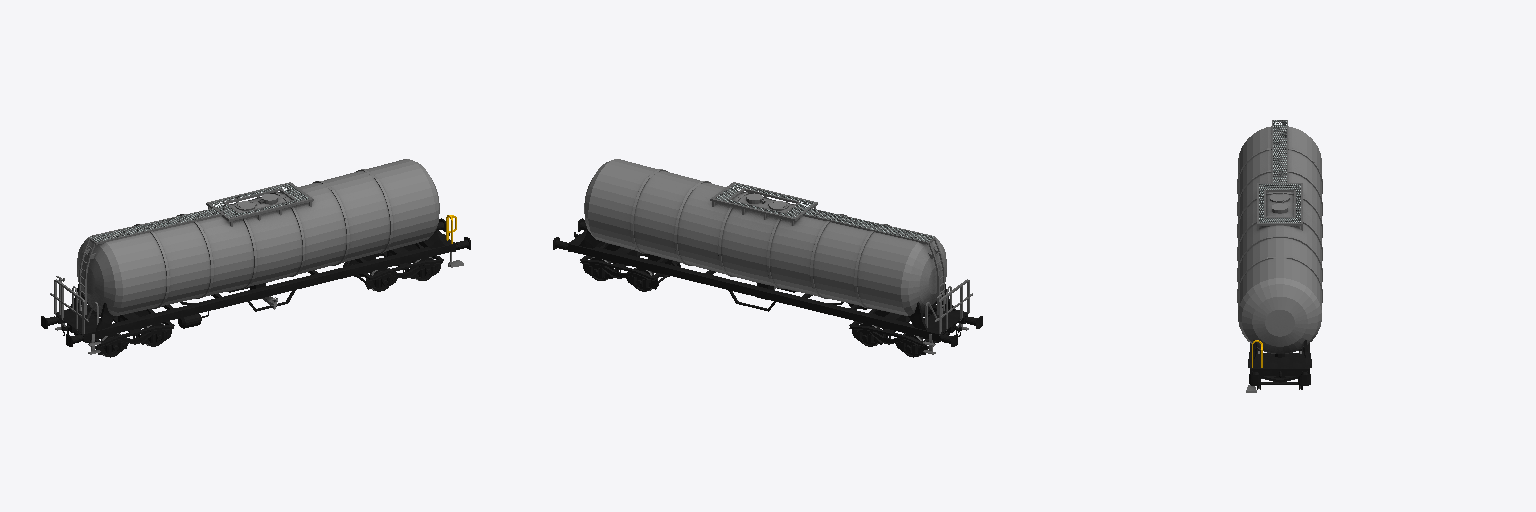
3 views of the same model, side by side, from view 1: azimuth 30°, elevation 25°; view 2: azimuth 150°, elevation 25°; view 3: azimuth 270°, elevation 25° (orthographic).
Parts seen in each view (by area): view 1: FRAME_Cylinder, BOGEY_REAR_Cube.004, BOGEY_FRONT_Cube.001; view 2: FRAME_Cylinder, BOGEY_REAR_Cube.004, BOGEY_FRONT_Cube.001; view 3: FRAME_Cylinder.
Part boxes in pixels (x1,y1,x2,y2): FRAME_Cylinder: (41, 159, 470, 354); BOGEY_REAR_Cube.004: (343, 243, 443, 289); BOGEY_FRONT_Cube.001: (74, 309, 174, 354); FRAME_Cylinder: (553, 159, 982, 354); BOGEY_REAR_Cube.004: (580, 243, 680, 289); BOGEY_FRONT_Cube.001: (849, 309, 949, 354); FRAME_Cylinder: (1237, 120, 1322, 392).
Bounding box in the file's own units: 16.67 × 4.46 × 3.1.
Materials: 7 (5 with a texture image).